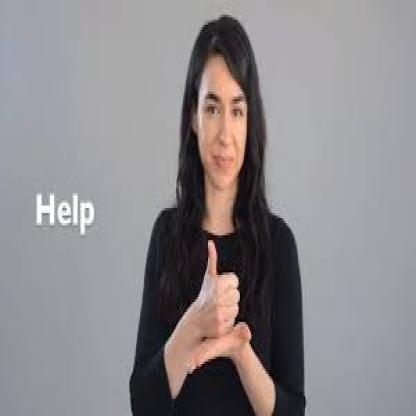help: (184, 217, 252, 405)
